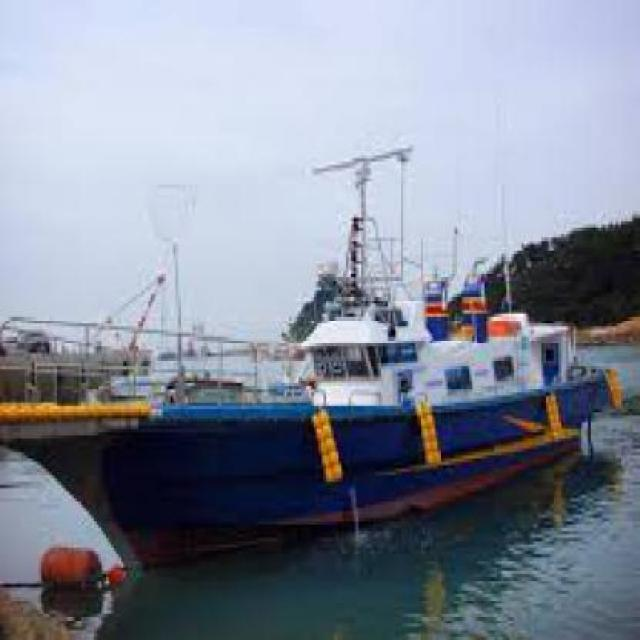fish-b: (6, 136, 639, 589)
